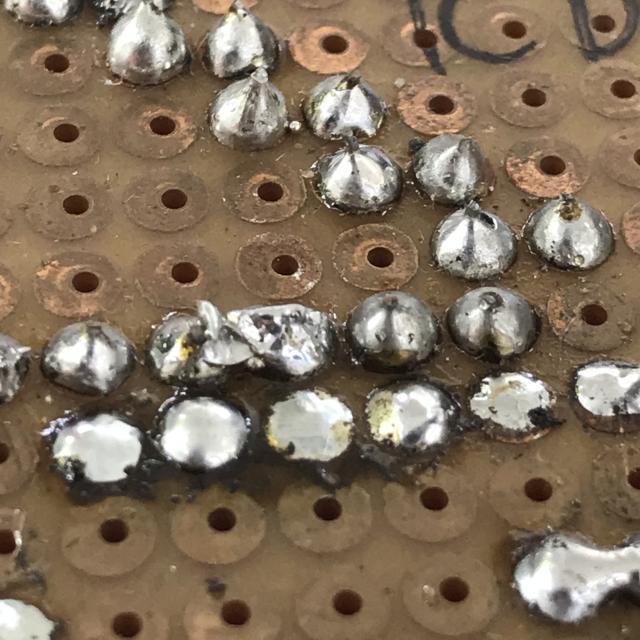excess: (335, 285, 448, 378), (423, 196, 527, 290), (518, 185, 622, 278), (439, 277, 546, 365), (308, 137, 411, 223), (100, 0, 194, 91), (294, 66, 390, 153), (201, 74, 297, 158)
pad_less: (146, 297, 343, 396)
